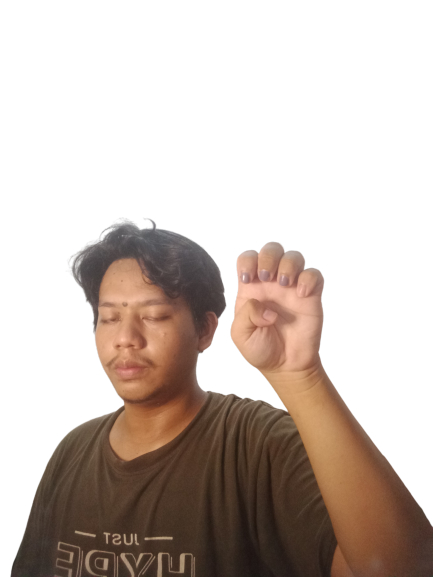E: (229, 236, 327, 375)
